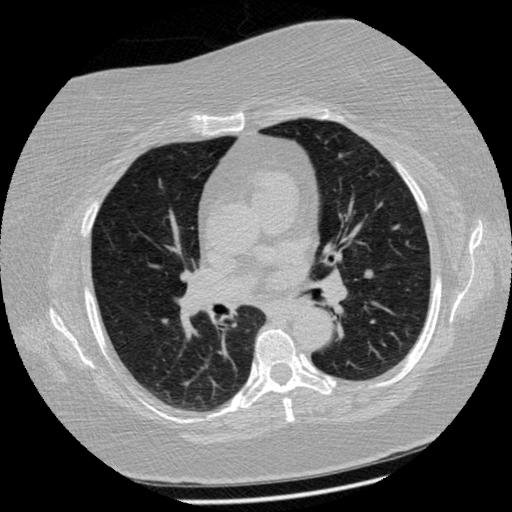nodule: (362, 267, 376, 281)
